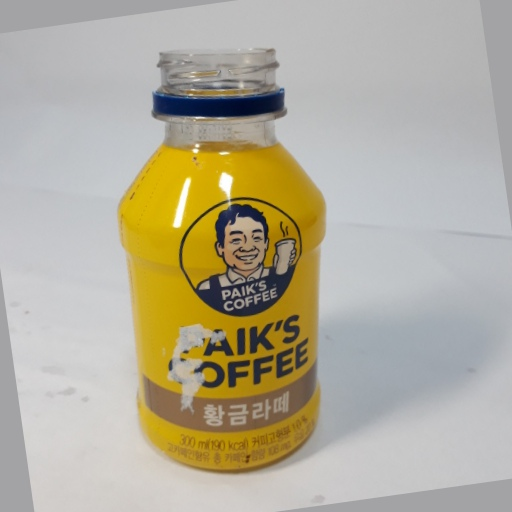Plastic_0: (116, 44, 331, 475)
